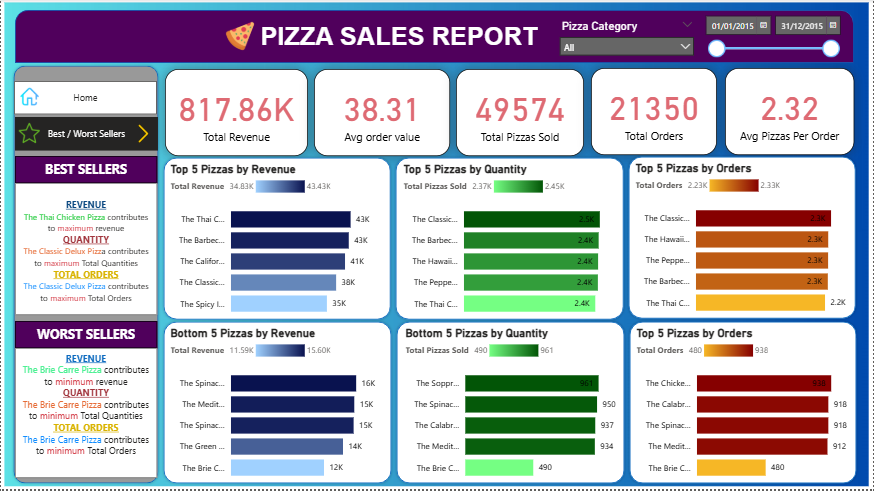

The page's visual inventory and layout, read from the dashboard file:
{"tool":"powerbi","page":{"name":"Best / Worst Sellers","canvas":[1280,720],"ordinal":1},"visuals":[{"type":"image","box":[0,0,1280,720.6],"z":0},{"type":"card","fields":{"Values":["pizza_sales.Total Revenue"]},"box":[241,102.9,210.1,127.8],"z":1000},{"type":"card","fields":{"Values":["pizza_sales.Avg order value"]},"box":[460.3,102.9,200,127.9],"z":2000},{"type":"card","fields":{"Values":["pizza_sales.Total Pizzas Sold"]},"box":[669.1,102.9,188.2,127.9],"z":3000},{"type":"card","fields":{"Values":["pizza_sales.Total Orders"]},"box":[867.6,101.5,185.3,127.9],"z":4000},{"type":"card","fields":{"Values":["pizza_sales.Avg Pizzas Per Order"]},"box":[1063.2,101.5,189.7,127.9],"z":5000},{"type":"shape","box":[20.6,16.2,1232.4,77.9],"z":6000},{"type":"textbox","box":[339.4,27.9,490.8,55.8],"z":7000},{"type":"image","box":[324.7,25,52.9,58.8],"z":8000},{"type":"shape","box":[235.1,470.2,342.4,245.4],"z":13000},{"type":"shape","box":[577.5,470.2,342.4,245.4],"z":14000},{"type":"shape","box":[919.8,470.2,340.9,245.4],"z":15000},{"type":"shape","box":[14.7,94,220.4,621.6],"z":19000},{"type":"slicer","fields":{"Values":["pizza_sales.pizza_category"]},"box":[811.1,25,217.5,63.2],"z":20000},{"type":"textbox","box":[20.6,230.7,208.7,39.7],"z":21000},{"type":"textbox","box":[20.6,473.1,208.7,39.7],"z":22000},{"type":"textbox","box":[20.6,270.6,208.8,194.1],"z":23000},{"type":"textbox","box":[20.6,512.8,208.7,191],"z":24000},{"type":"slicer","fields":{"Values":["pizza_sales.order_date"]},"box":[1022.7,14.7,217.5,79.3],"z":25000},{"type":"shape","box":[235.3,229.4,341.2,245.6],"z":25001},{"type":"shape","box":[576.5,229.4,342.6,245.6],"z":25002},{"type":"shape","box":[917.6,227.9,341.2,245.6],"z":25003},{"type":"barChart","title":"Top 5 Pizzas by Revenue","fields":{"Category":["pizza_sales.pizza_name"],"Y":["pizza_sales.Total Revenue"]},"box":[244.1,239.7,322.1,238.2],"z":25004},{"type":"barChart","title":"Bottom 5 Pizzas by Revenue","fields":{"Category":["pizza_sales.pizza_name"],"Y":["pizza_sales.Total Revenue"]},"box":[244.1,480.9,322.1,238.2],"z":25005},{"type":"barChart","title":"Top 5 Pizzas by Quantity","fields":{"Category":["pizza_sales.pizza_name"],"Y":["pizza_sales.Total Pizzas Sold"]},"box":[586.8,239.7,322.1,238.2],"z":25006},{"type":"barChart","title":"Bottom 5 Pizzas by Quantity","fields":{"Category":["pizza_sales.pizza_name"],"Y":["pizza_sales.Total Pizzas Sold"]},"box":[589.7,480.9,319.1,238.2],"z":25007},{"type":"barChart","title":"Top 5 Pizzas by Orders","fields":{"Category":["pizza_sales.pizza_name"],"Y":["pizza_sales.Total Orders"]},"box":[926.5,238.2,322.1,238.2],"z":25008},{"type":"barChart","title":"Top 5 Pizzas by Orders","fields":{"Category":["pizza_sales.pizza_name"],"Y":["pizza_sales.Total Orders"]},"box":[927.9,480.9,322.1,238.2],"z":25009},{"type":"pageNavigator","box":[19.1,120.6,210.3,50],"z":25010},{"type":"pageNavigator","box":[20.6,173.5,210.3,50],"z":25011},{"type":"image","box":[183.8,179.4,51.5,36.8],"z":25012},{"type":"image","box":[23.5,125,36.8,36.8],"z":25013},{"type":"image","box":[19.1,176.5,44.1,41.2],"z":25014}]}

Visuals, with their boxes in screenshot pixels (x1, y1, x2, y2), scaled from the page's 1280x720 canvas onto the 874x491 screenshot:
image: locate(0, 0, 873, 490)
card - pizza_sales.Total Revenue: locate(165, 70, 308, 157)
card - pizza_sales.Avg order value: locate(314, 70, 451, 157)
card - pizza_sales.Total Pizzas Sold: locate(457, 70, 585, 157)
card - pizza_sales.Total Orders: locate(592, 69, 719, 156)
card - pizza_sales.Avg Pizzas Per Order: locate(726, 69, 855, 156)
shape: locate(14, 11, 856, 64)
textbox: locate(232, 19, 567, 57)
image: locate(222, 17, 258, 57)
shape: locate(161, 321, 394, 488)
shape: locate(394, 321, 628, 488)
shape: locate(628, 321, 861, 488)
shape: locate(10, 64, 161, 488)
slicer - pizza_sales.pizza_category: locate(554, 17, 702, 60)
textbox: locate(14, 157, 157, 184)
textbox: locate(14, 323, 157, 350)
textbox: locate(14, 185, 157, 317)
textbox: locate(14, 350, 157, 480)
slicer - pizza_sales.order_date: locate(698, 10, 847, 64)
shape: locate(161, 156, 394, 324)
shape: locate(394, 156, 628, 324)
shape: locate(627, 155, 860, 323)
"Top 5 Pizzas by Revenue" barChart: locate(167, 163, 387, 326)
"Bottom 5 Pizzas by Revenue" barChart: locate(167, 328, 387, 490)
"Top 5 Pizzas by Quantity" barChart: locate(401, 163, 621, 326)
"Bottom 5 Pizzas by Quantity" barChart: locate(403, 328, 621, 490)
"Top 5 Pizzas by Orders" barChart: locate(633, 162, 853, 325)
"Top 5 Pizzas by Orders" barChart: locate(634, 328, 854, 490)
pageNavigator: locate(13, 82, 157, 116)
pageNavigator: locate(14, 118, 158, 152)
image: locate(126, 122, 161, 147)
image: locate(16, 85, 41, 110)
image: locate(13, 120, 43, 148)
